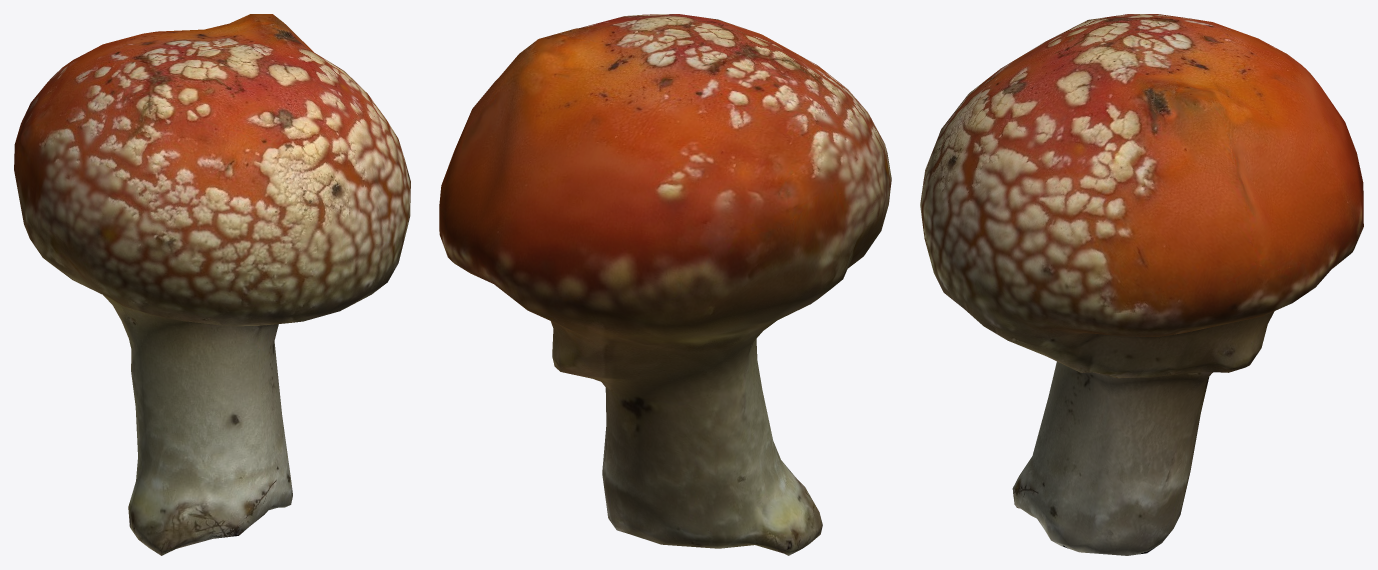
The model's file is champignon-a-lames.glb.
The picture shows the model from 3 angles, left to right: view 1: azimuth 30°, elevation 25°; view 2: azimuth 150°, elevation 25°; view 3: azimuth 270°, elevation 25°; orthographic projection. The views are drawn at different scales.
Visible parts, largest first — view 1: mushroom_08; view 2: mushroom_08; view 3: mushroom_08.
Boxes of the visible parts, box(x1,y1,x2,y2) form: mushroom_08: box(14, 14, 410, 555); mushroom_08: box(439, 14, 891, 555); mushroom_08: box(920, 14, 1363, 555).
Bounding box in the file's own units: 3.98 × 5.12 × 4.13.
1 material, 1 textured.
